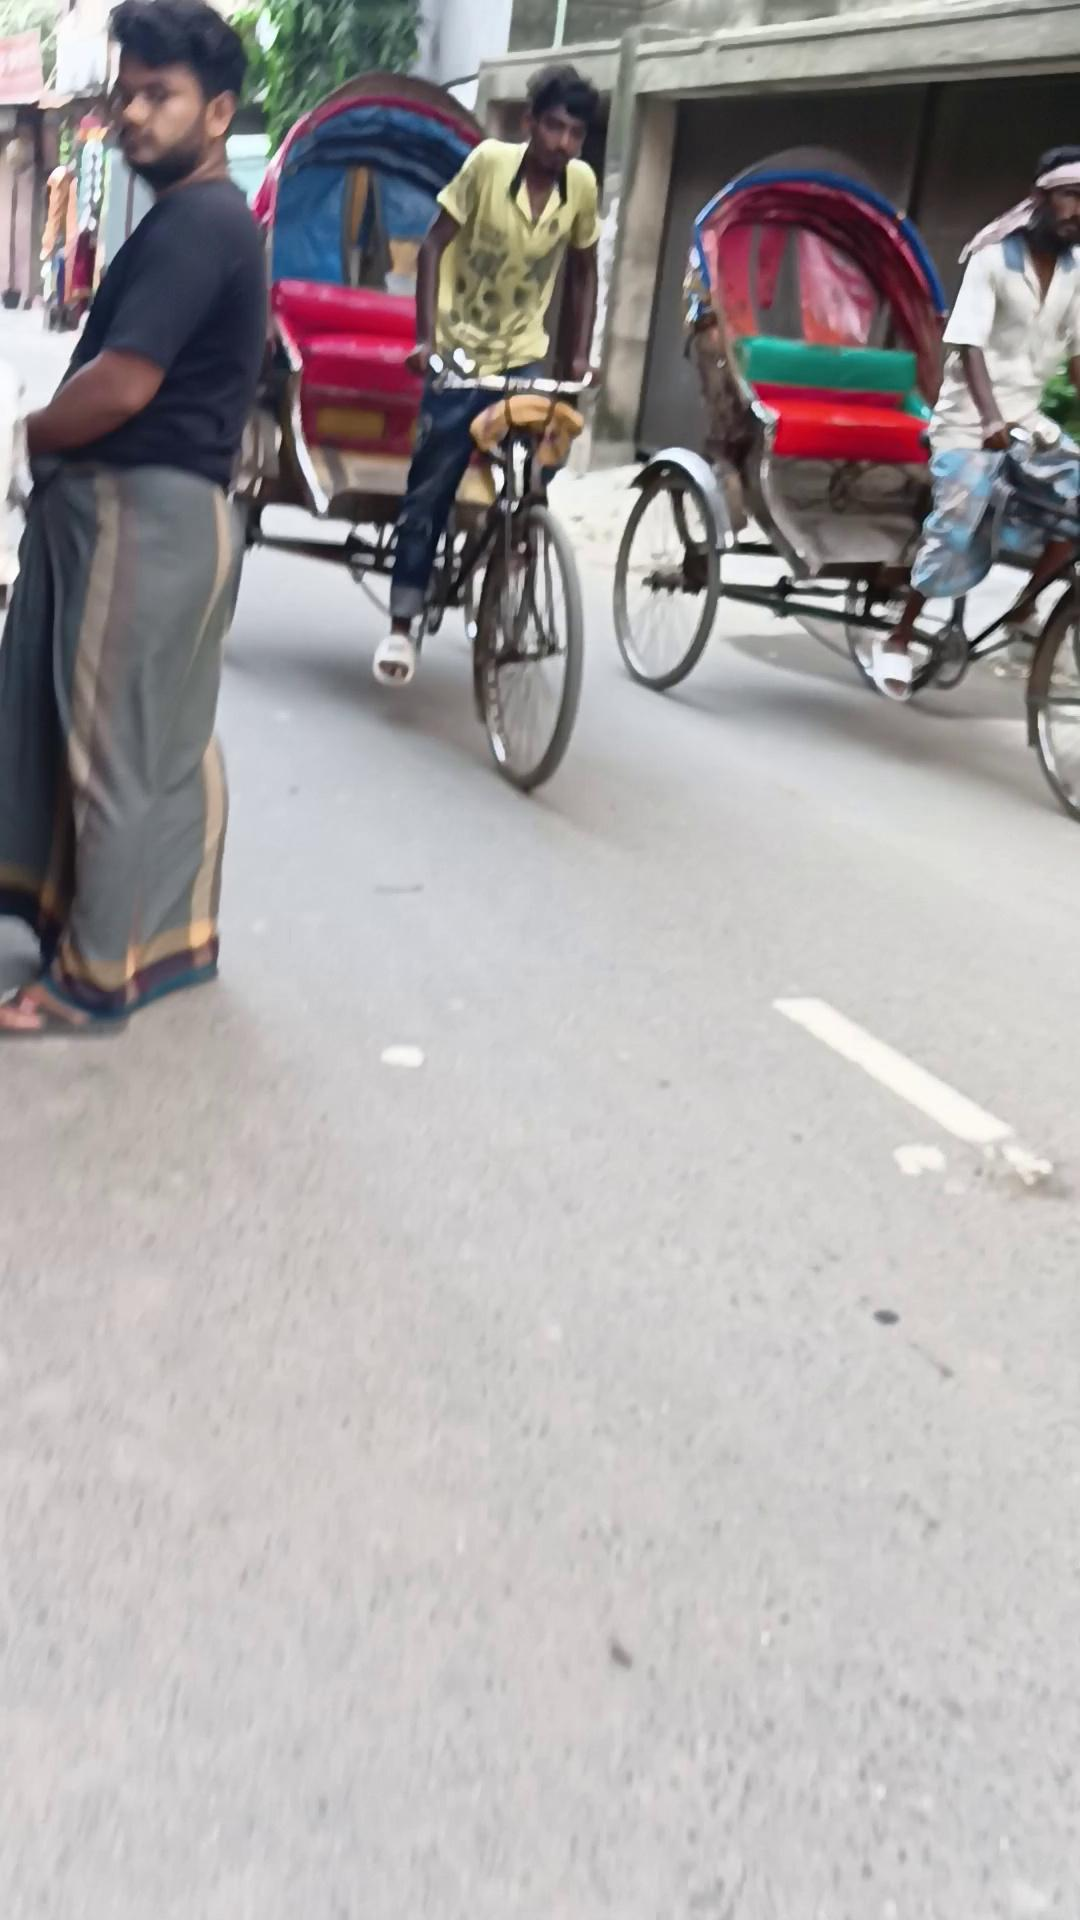Curb: (1, 1, 269, 1036), (371, 62, 601, 684), (872, 144, 1079, 698)
Fence: (611, 158, 1077, 818), (223, 69, 593, 794)
Light-pole: (222, 0, 425, 161)
